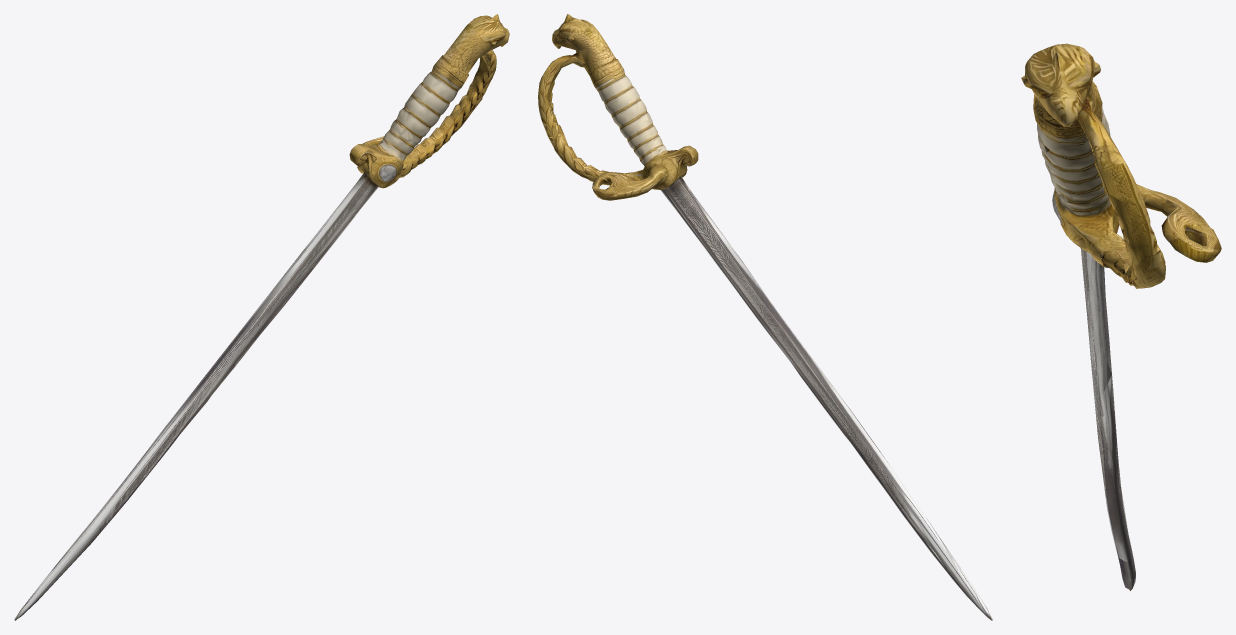
3 views of the same model, side by side, from view 1: azimuth 30°, elevation 25°; view 2: azimuth 150°, elevation 25°; view 3: azimuth 270°, elevation 25° (orthographic). The views are drawn at different scales.
Visible parts, largest first — view 1: Mesh_0; view 2: Mesh_0; view 3: Mesh_0.
Part boxes in pixels (box(x1,y1,x2,y2)): Mesh_0: box(14, 14, 509, 620); Mesh_0: box(538, 14, 992, 620); Mesh_0: box(1021, 43, 1221, 590).
Size of the model in its own units: 0.983 by 1 by 0.1873.
1 material, 1 textured.
